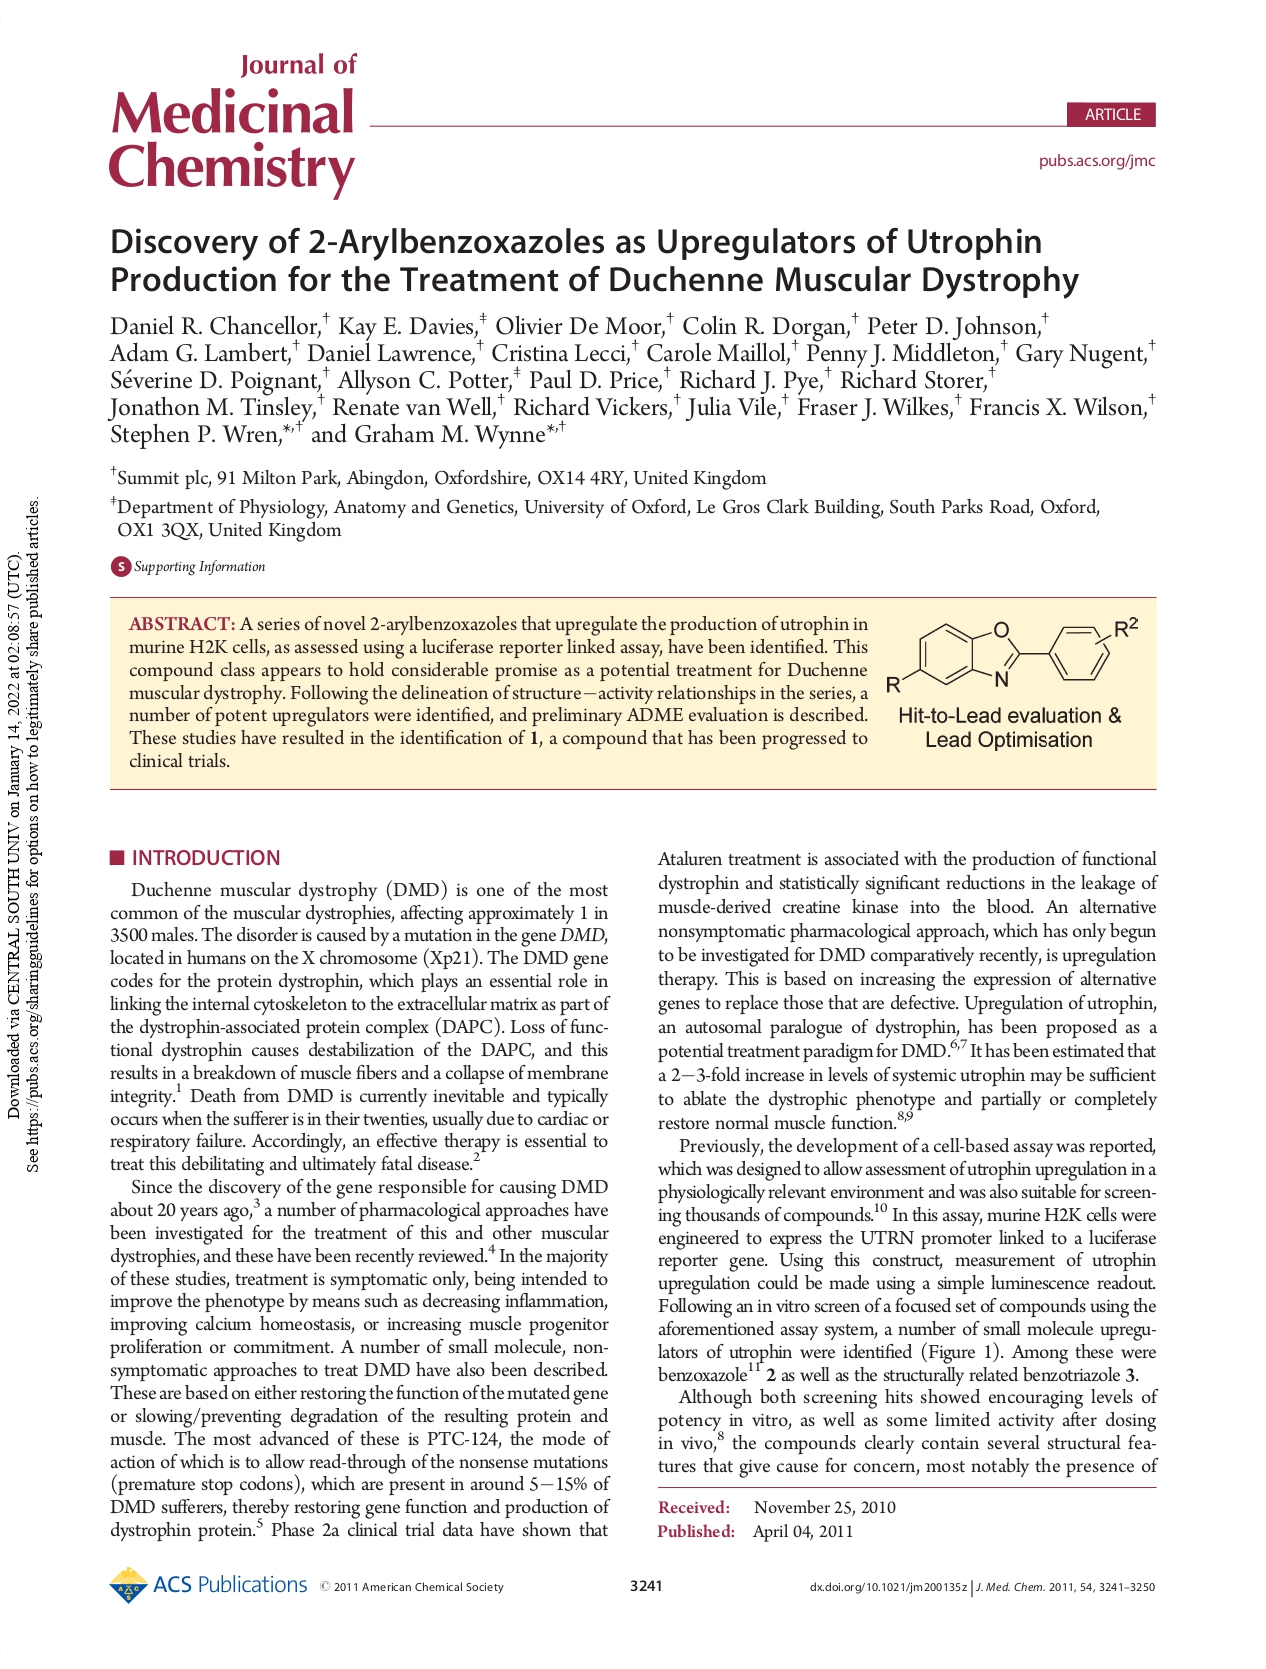exist_molecular: (876, 609, 1138, 697)
